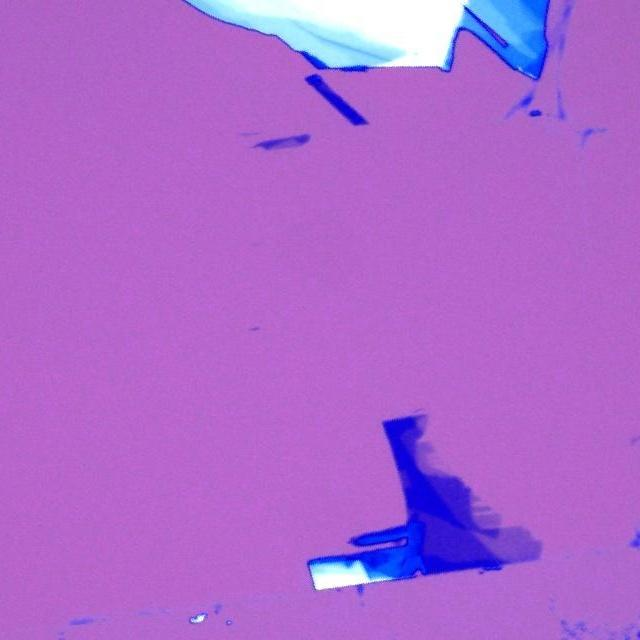monolayer-eWW4: (471, 492, 542, 562), (415, 442, 446, 478)
